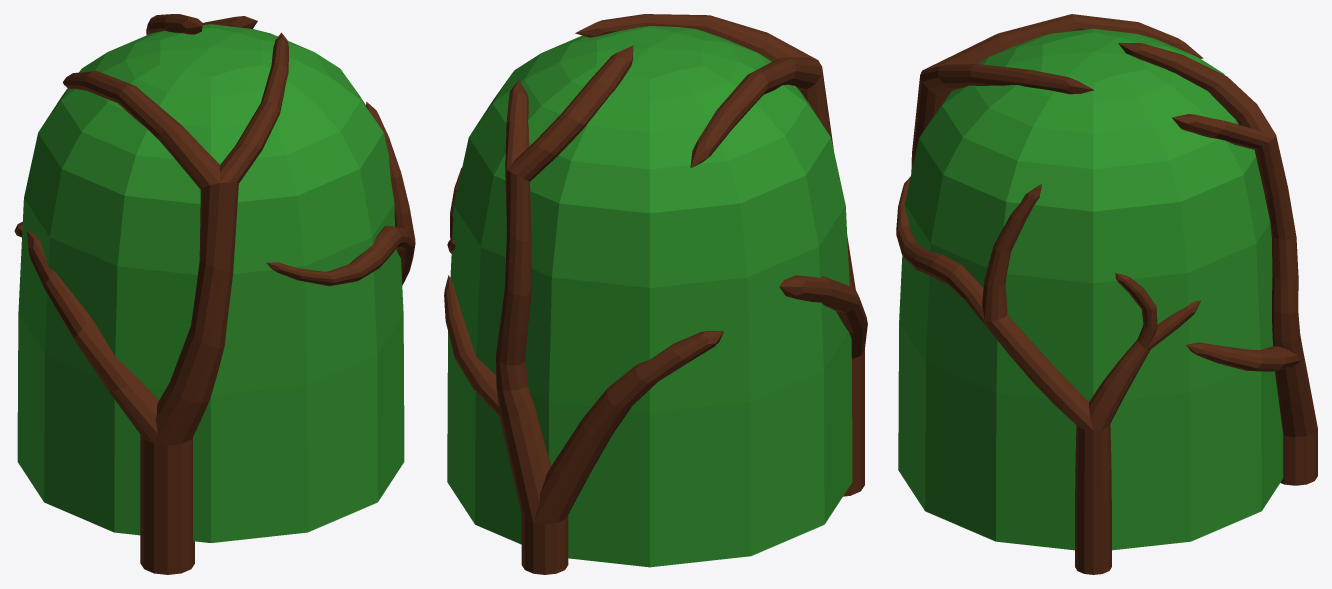
File: pod.fbx
3 renders of one model, left to right at view 1: azimuth 30°, elevation 25°; view 2: azimuth 150°, elevation 25°; view 3: azimuth 270°, elevation 25°, orthographic. The views are drawn at different scales.
Parts seen in each view (by area): view 1: Sphere, Cylinder.002, Cylinder, Cylinder.001; view 2: Sphere, Cylinder.001, Cylinder.002; view 3: Sphere, Cylinder, Cylinder.001, Cylinder.002.
Boxes of the visible parts, left/top/right/bottom form: Sphere: left=17, top=24, right=404, bottom=542; Cylinder.002: left=26, top=32, right=288, bottom=574; Cylinder: left=266, top=101, right=415, bottom=286; Cylinder.001: left=14, top=14, right=257, bottom=237; Sphere: left=447, top=26, right=852, bottom=567; Cylinder.001: left=444, top=45, right=723, bottom=574; Cylinder.002: left=575, top=14, right=867, bottom=496; Sphere: left=898, top=28, right=1283, bottom=550; Cylinder: left=896, top=177, right=1200, bottom=574; Cylinder.001: left=1118, top=43, right=1317, bottom=485; Cylinder.002: left=911, top=14, right=1203, bottom=172.
Bounding box in the file's own units: 176 × 173 × 209.
